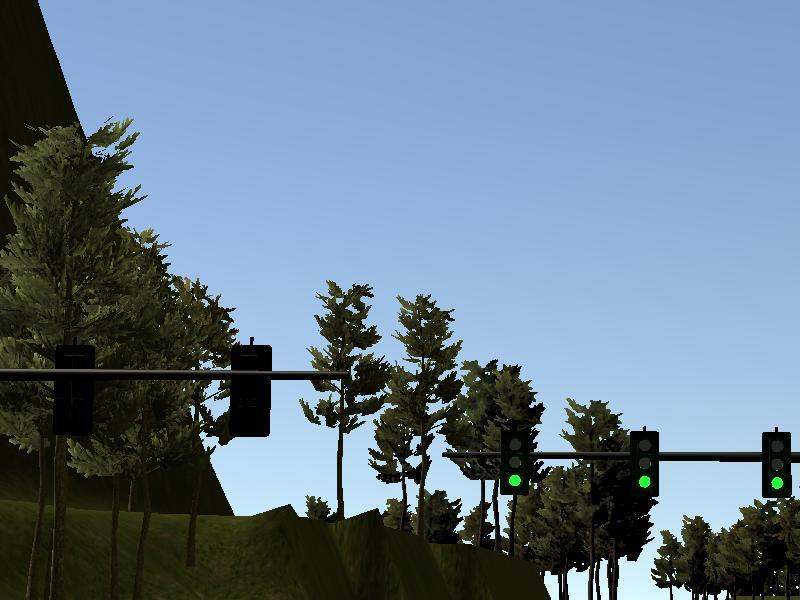Green: (760, 435, 793, 498), (501, 426, 529, 494), (631, 431, 658, 495)
